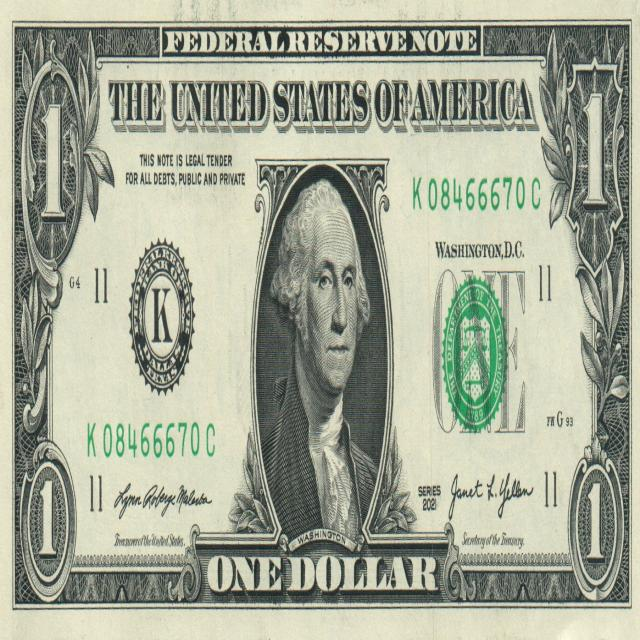SerialNumber: (88, 422, 215, 458), (413, 177, 540, 211)
